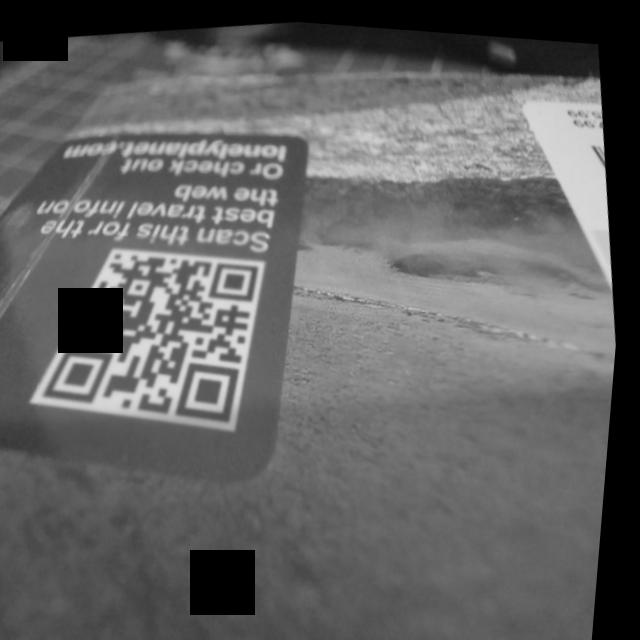QR_CODE: (20, 209, 298, 470)
